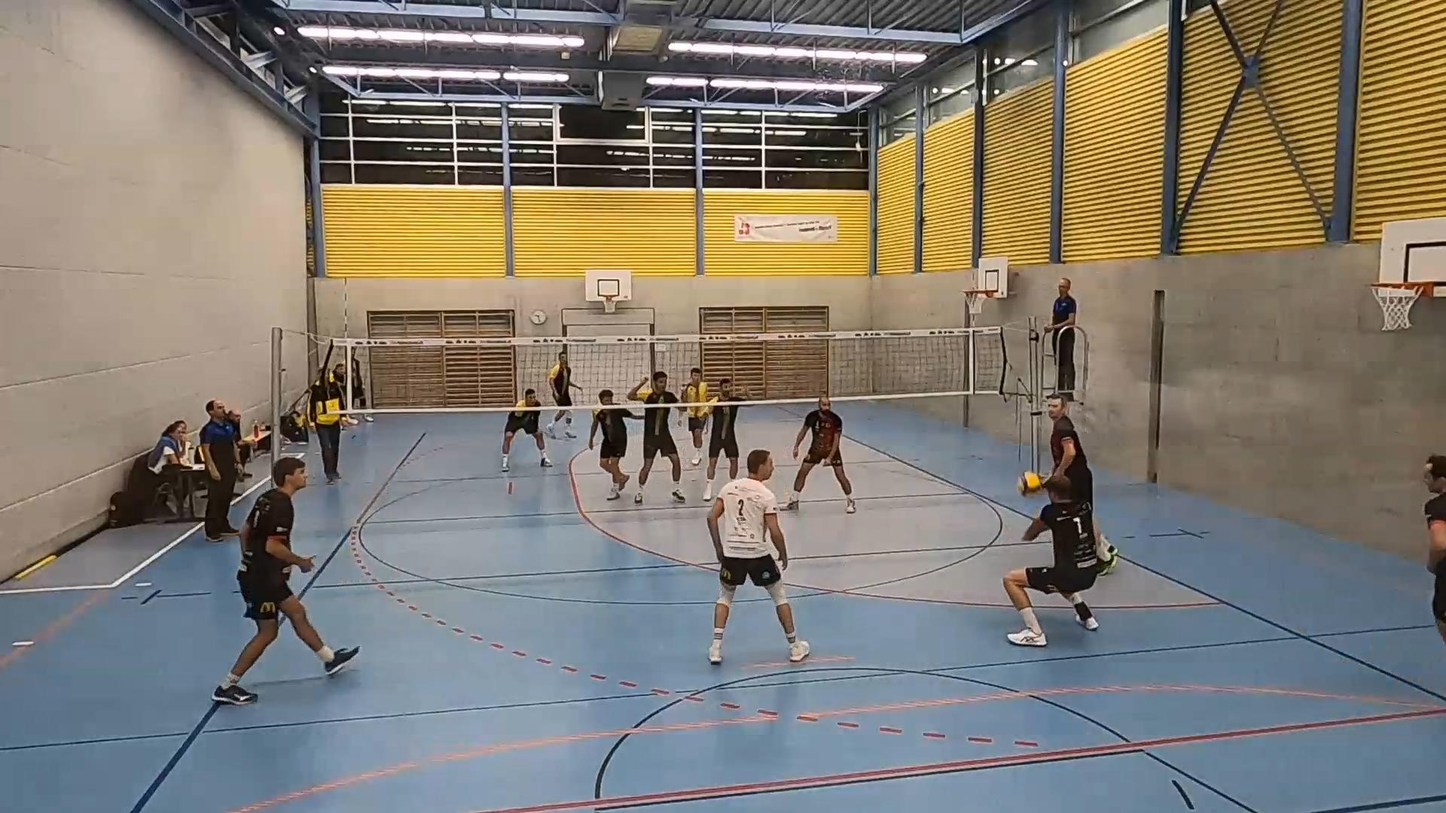Player: (212, 458, 358, 705), (707, 449, 809, 664), (786, 395, 855, 513), (627, 372, 685, 504), (1047, 394, 1092, 519), (703, 377, 744, 501), (588, 409, 642, 500), (502, 388, 552, 470), (1423, 455, 1445, 641), (548, 349, 581, 439), (687, 405, 711, 466)
Receive: (1009, 474, 1114, 649)
ball: (1020, 468, 1040, 495)
